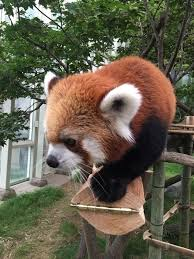redPanda: (36, 52, 179, 205)
